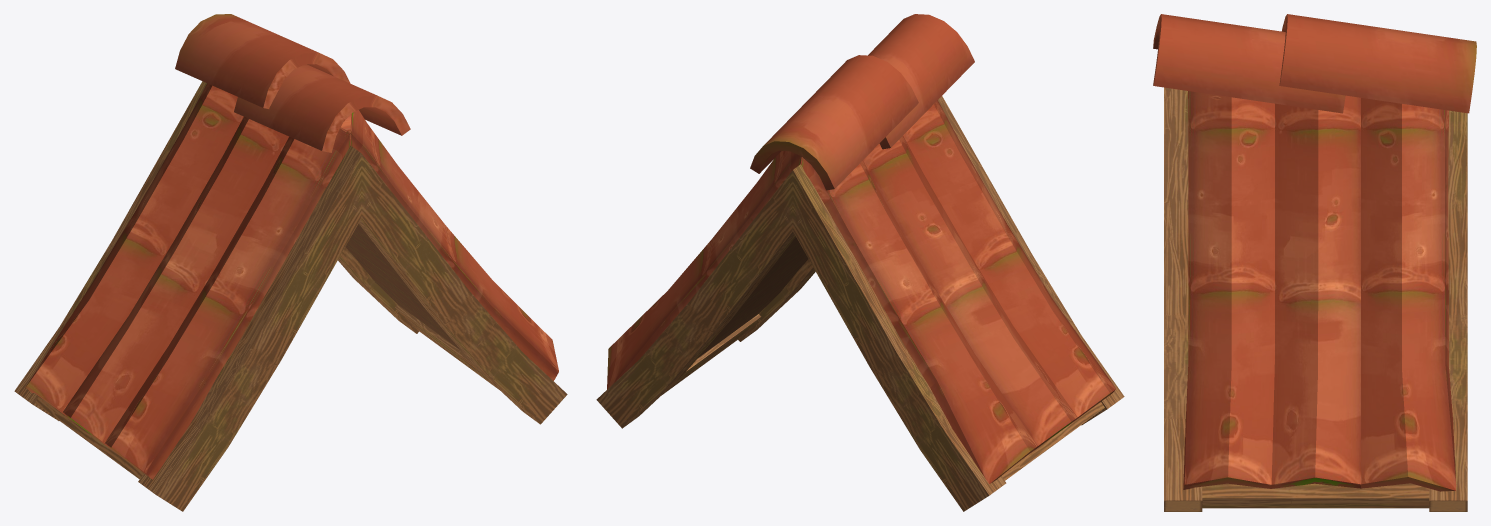
The model's file is Roof_RoundTile_2x1.gltf.
The picture shows the model from 3 angles, left to right: view 1: azimuth 30°, elevation 25°; view 2: azimuth 150°, elevation 25°; view 3: azimuth 270°, elevation 25°; orthographic projection. The views are drawn at different scales.
Parts seen in each view (by area): view 1: Roof_RoundTile_2x1; view 2: Roof_RoundTile_2x1; view 3: Roof_RoundTile_2x1.
Part boxes in pixels (bbox=[...]): Roof_RoundTile_2x1: bbox=[14, 14, 567, 511]; Roof_RoundTile_2x1: bbox=[596, 14, 1124, 511]; Roof_RoundTile_2x1: bbox=[1153, 14, 1476, 511].
Bounding box in the file's own units: 3.3 × 2.66 × 1.95.
Materials: 2 (2 with a texture image).
